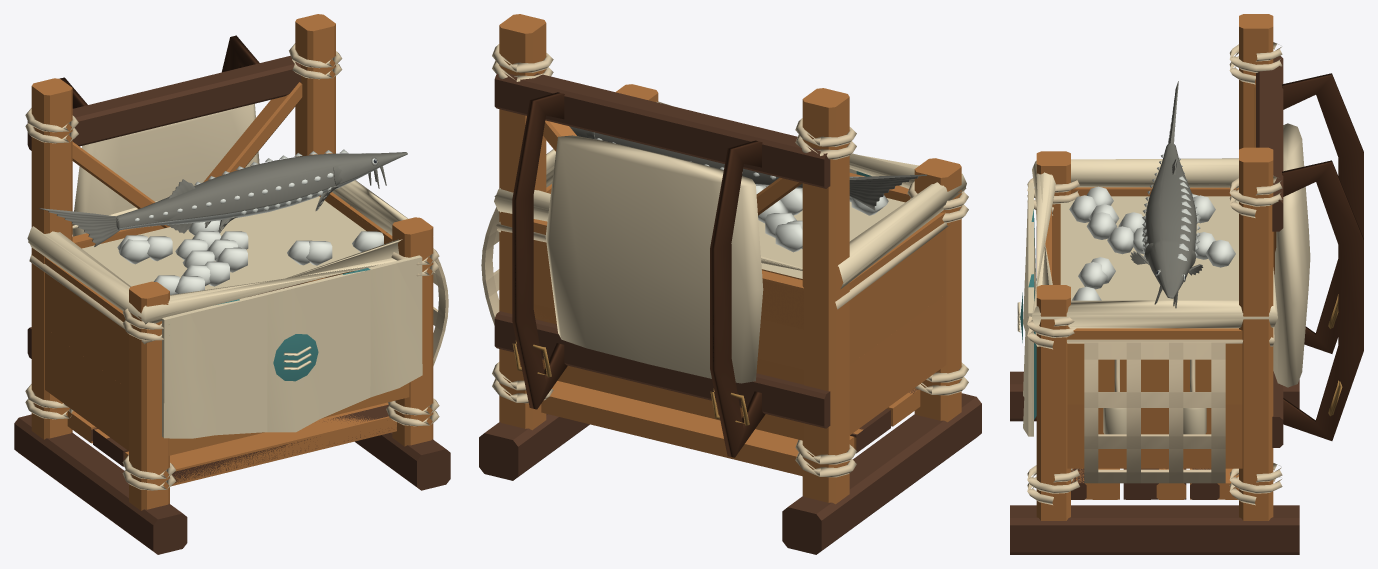
File: prop_trade_pack_sturgeon_a.glb
3 views of the same model, side by side, from view 1: azimuth 30°, elevation 25°; view 2: azimuth 150°, elevation 25°; view 3: azimuth 270°, elevation 25° (orthographic). The views are drawn at different scales.
Parts seen in each view (by area): view 1: prop_trade_pack_sturgeon_a_carrier_1, prop_trade_pack_sturgeon_a_carrier_0, prop_trade_pack_sturgeon_a_catch_0, prop_trade_pack_sturgeon_a_catch_1; view 2: prop_trade_pack_sturgeon_a_carrier_0, prop_trade_pack_sturgeon_a_carrier_1, prop_trade_pack_sturgeon_a_catch_0; view 3: prop_trade_pack_sturgeon_a_carrier_0, prop_trade_pack_sturgeon_a_carrier_1, prop_trade_pack_sturgeon_a_catch_0, prop_trade_pack_sturgeon_a_catch_1.
Boxes of the visible parts, box(x1,y1,x2,y2) form: prop_trade_pack_sturgeon_a_carrier_1: box(14, 14, 447, 552); prop_trade_pack_sturgeon_a_carrier_0: box(16, 14, 450, 554); prop_trade_pack_sturgeon_a_catch_0: box(39, 149, 407, 246); prop_trade_pack_sturgeon_a_catch_1: box(116, 152, 407, 230); prop_trade_pack_sturgeon_a_carrier_0: box(479, 14, 979, 554); prop_trade_pack_sturgeon_a_carrier_1: box(479, 14, 981, 550); prop_trade_pack_sturgeon_a_catch_0: box(569, 126, 926, 210); prop_trade_pack_sturgeon_a_carrier_0: box(1010, 14, 1363, 552); prop_trade_pack_sturgeon_a_carrier_1: box(1010, 14, 1363, 554); prop_trade_pack_sturgeon_a_catch_0: box(1130, 81, 1203, 308); prop_trade_pack_sturgeon_a_catch_1: box(1150, 143, 1196, 298).
Bounding box in the file's own units: 0.9671 × 0.96 × 0.7816.
